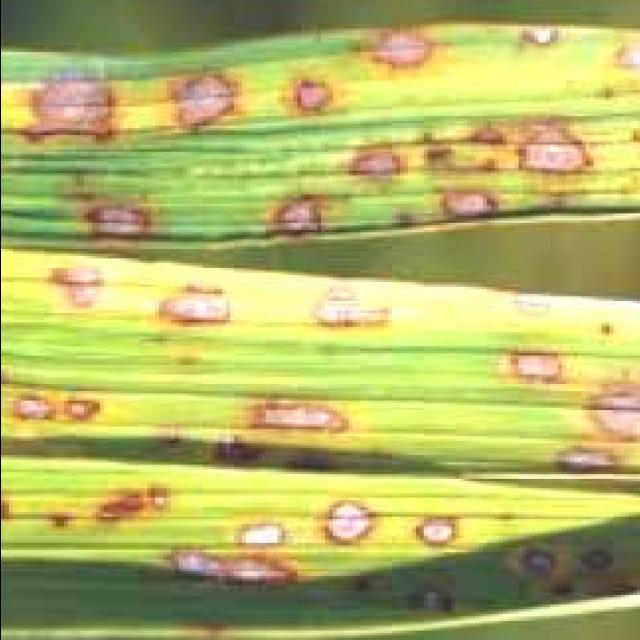Brown_Spot: (186, 512, 304, 600), (24, 66, 142, 144), (308, 268, 411, 336), (170, 62, 272, 130), (249, 393, 371, 441), (0, 392, 123, 439), (522, 118, 612, 180), (162, 261, 241, 327), (328, 484, 388, 554), (87, 188, 166, 240), (95, 476, 170, 528), (403, 500, 470, 557), (272, 68, 348, 118), (51, 261, 122, 313), (376, 28, 450, 74), (561, 438, 624, 484), (510, 344, 566, 388), (430, 188, 498, 220), (344, 152, 404, 185), (514, 284, 566, 318), (513, 26, 573, 50), (608, 43, 640, 76), (0, 498, 28, 522)
